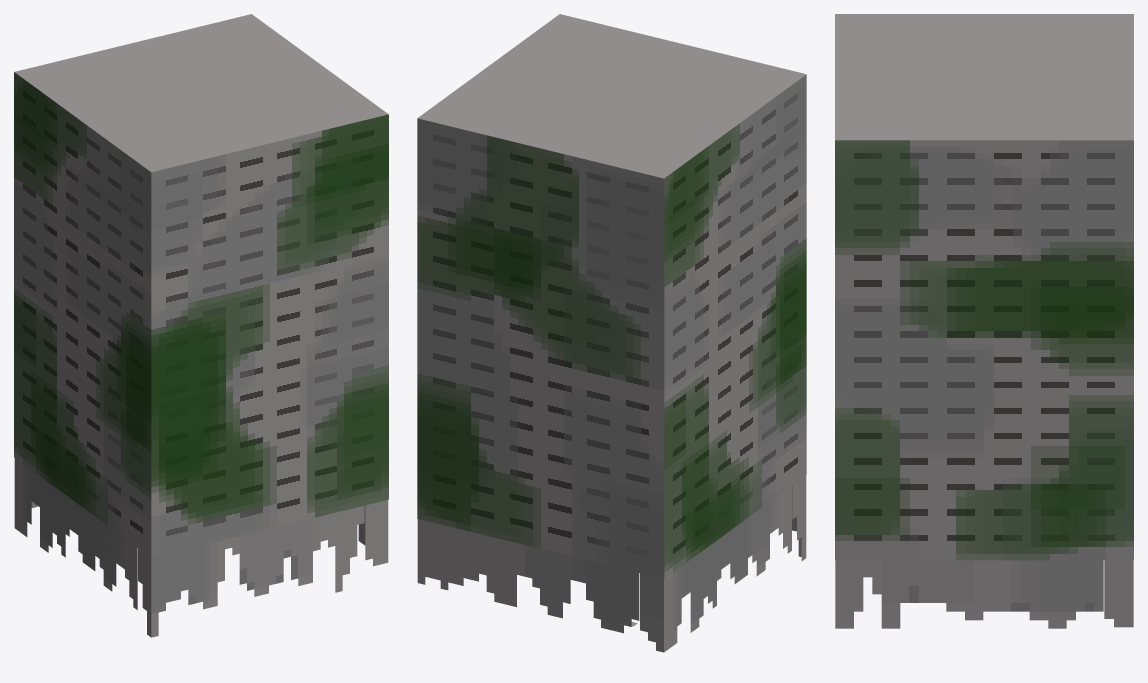
Rendered from Skybuilding 1.gltf.
The picture shows the model from 3 angles, left to right: view 1: azimuth 30°, elevation 25°; view 2: azimuth 150°, elevation 25°; view 3: azimuth 270°, elevation 25°; orthographic projection. The views are drawn at different scales.
Visible parts, largest first — view 1: Main, cube (×3); view 2: Main, cube (×3); view 3: Main, cube (×2).
Boxes of the visible parts, x1,y1,x2,y2 form: Main: (14, 14, 388, 557); cube (×3): (14, 458, 388, 637); Main: (417, 14, 806, 578); cube (×3): (417, 475, 806, 652); Main: (835, 14, 1133, 560); cube (×2): (835, 560, 1133, 628).
Bounding box in the file's own units: 0.125 × 0.2498 × 0.125.
Materials: 5 (5 with a texture image).
